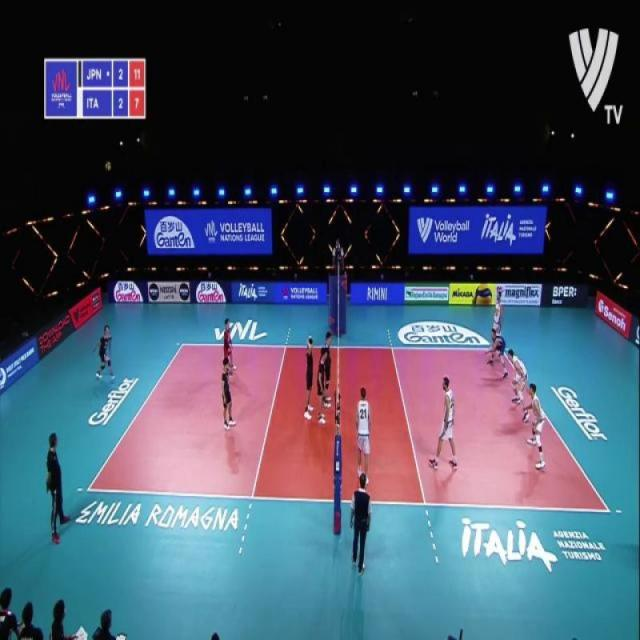volleyball: (471, 285, 494, 306), (104, 162, 113, 172)
